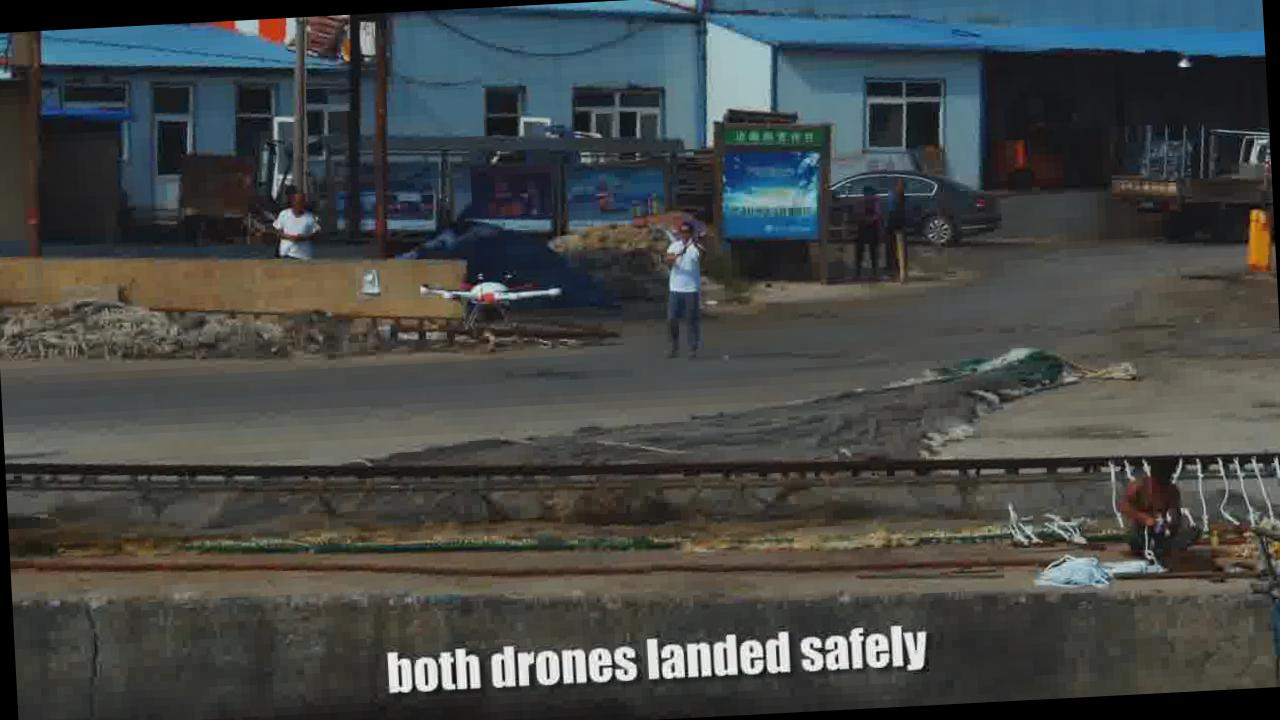drone: (412, 265, 562, 321)
